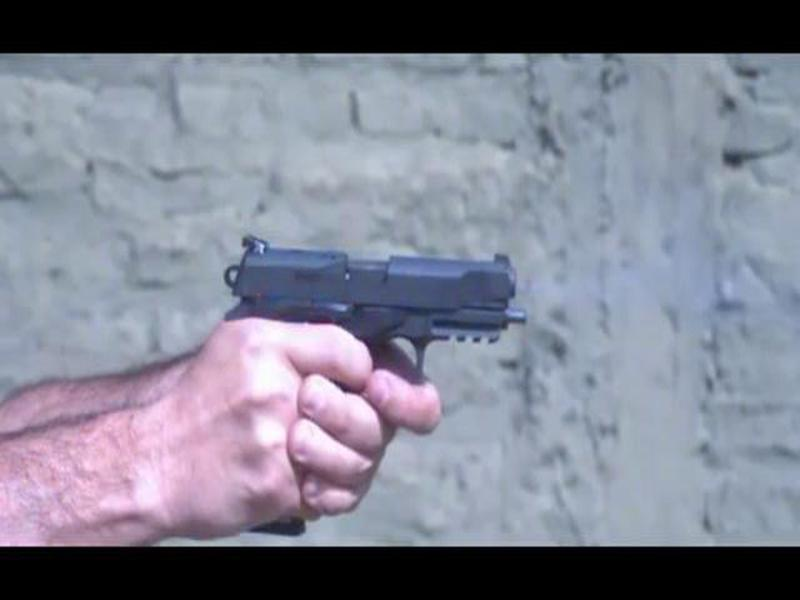Pistola: (203, 224, 560, 394)
